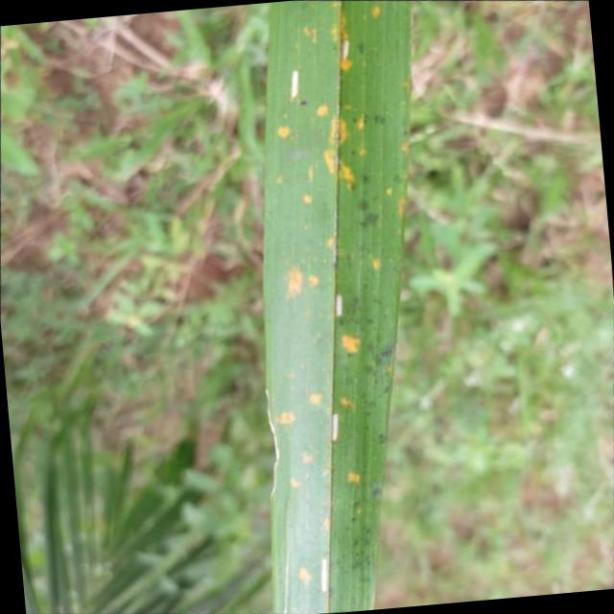Kalium: (258, 0, 414, 614)
